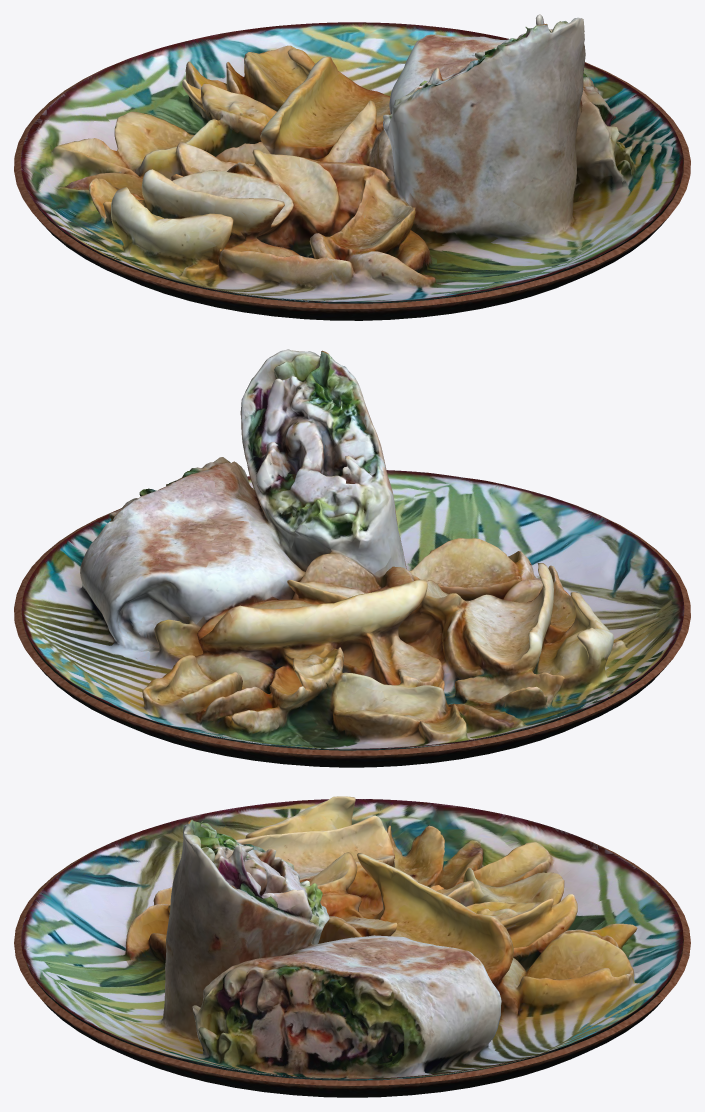
The model's file is Plato_06.glb.
3 views of the same model, one above another, from view 1: azimuth 30°, elevation 25°; view 2: azimuth 150°, elevation 25°; view 3: azimuth 270°, elevation 25° (orthographic).
Parts seen in each view (by area): view 1: Chicken Roll Decimate, ChickenRoll Blue Plate copy; view 2: Chicken Roll Decimate, ChickenRoll Blue Plate copy; view 3: Chicken Roll Decimate, ChickenRoll Blue Plate copy.
Part boxes in pixels (x1,y1,x2,y2): Chicken Roll Decimate: [20, 14, 683, 302]; ChickenRoll Blue Plate copy: [14, 56, 690, 320]; Chicken Roll Decimate: [21, 349, 684, 749]; ChickenRoll Blue Plate copy: [14, 504, 690, 767]; Chicken Roll Decimate: [21, 796, 683, 1079]; ChickenRoll Blue Plate copy: [14, 840, 690, 1097].
Size of the model in its own units: 0.2551 by 0.0907 by 0.2551.
Materials: 2 (2 with a texture image).
